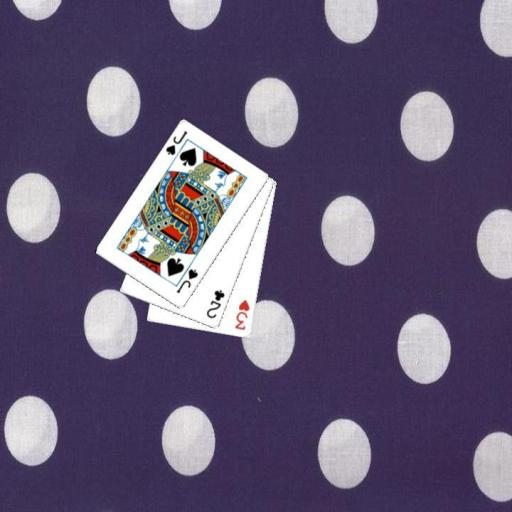2C: (204, 287, 227, 320)
3H: (232, 297, 251, 332)
JS: (173, 266, 200, 295), (162, 128, 189, 157)
